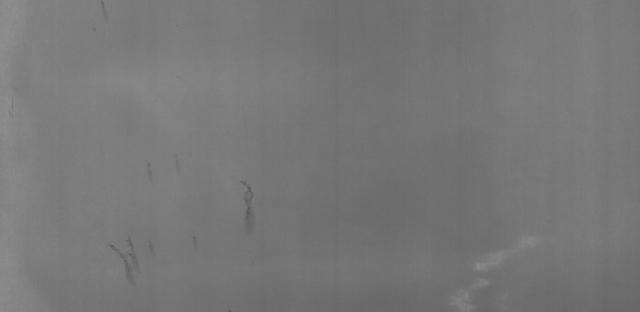water_spot: (226, 164, 275, 240), (104, 220, 150, 299)
